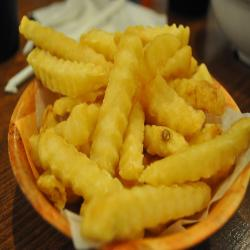fries: (15, 18, 241, 240)
